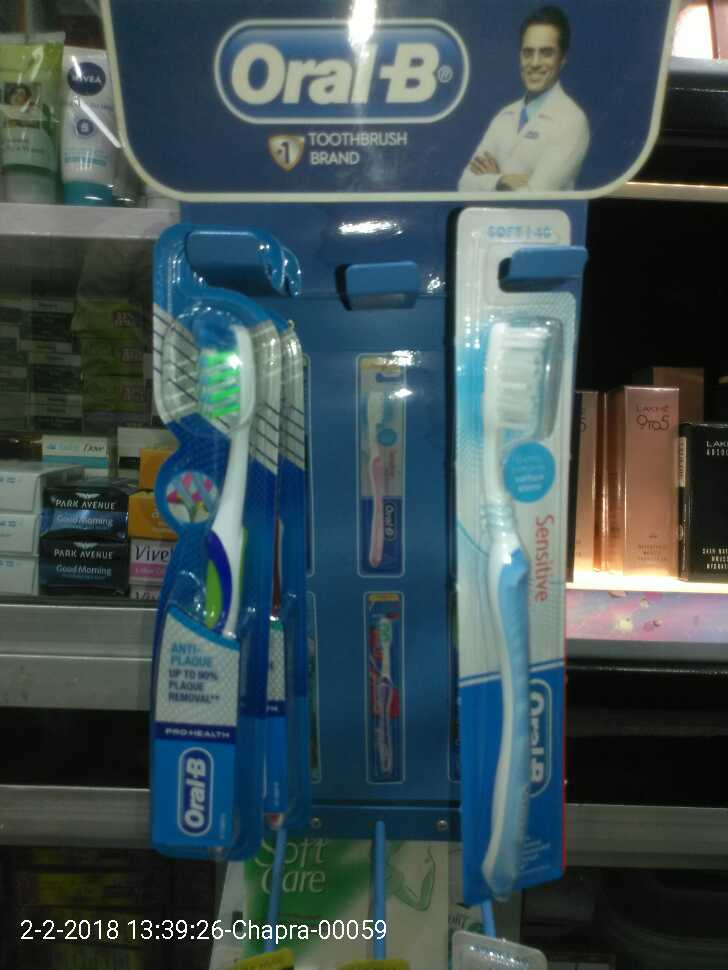oralb: (150, 228, 299, 853), (446, 191, 572, 882)
